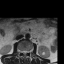CCS_normal: (23, 48, 25, 56)
LFS_normal: (27, 48, 29, 54)
LLS_normal: (25, 48, 27, 55)
RFS_normal: (20, 48, 22, 54)
RLS_normal: (22, 48, 23, 55)
